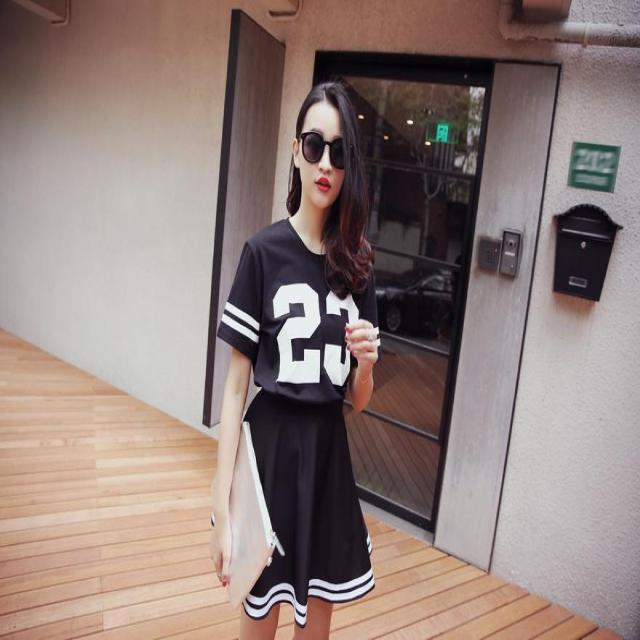short sleeve top: (217, 218, 383, 402)
skirt: (211, 389, 372, 604)
